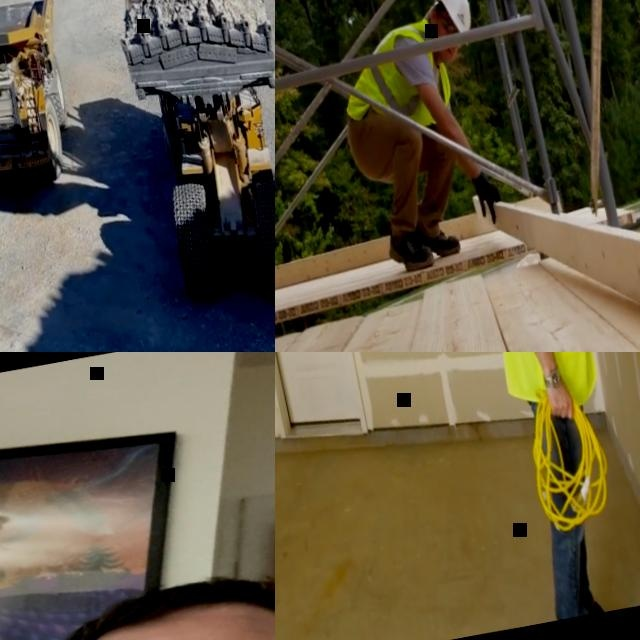Hardhat: (431, 0, 476, 49)
NO-Hardhat: (43, 555, 275, 640)
NO-Mask: (433, 25, 456, 62)
Person: (321, 0, 518, 280), (437, 352, 640, 620), (0, 521, 275, 640)
Safety Vest: (331, 13, 458, 140)
machinery: (101, 0, 275, 330), (0, 0, 97, 218)
